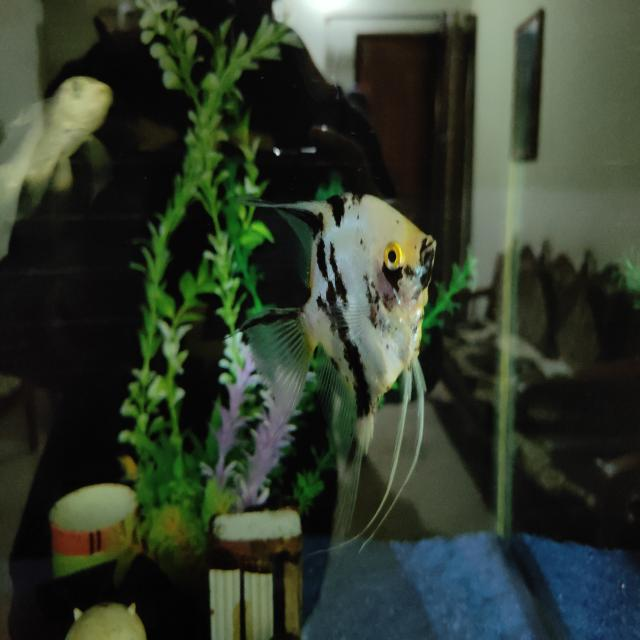Fish: (242, 194, 434, 537), (0, 77, 111, 257), (24, 77, 111, 205)
